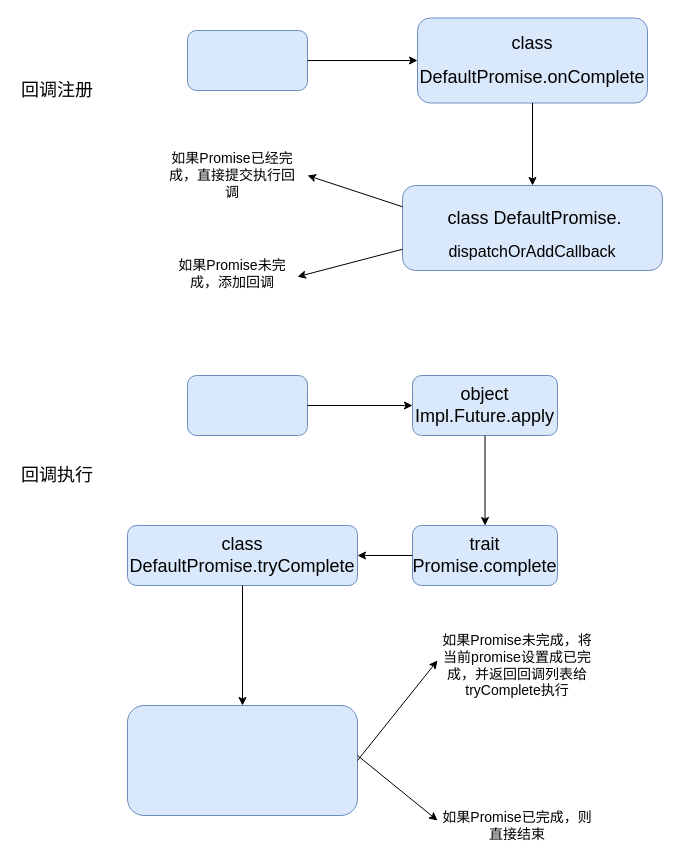
Some shapes in this 680 by 859 pixel diagram are drawn without their labels. Here are the shapes that lost their labels. From the top down, the centre of each, then its label:
At [247,60]: "trait Future.map".
At [247,405]: "object Future.apply".
At [242,760]: "class DefaultPromise. tryCompleteAndGetListeners".
